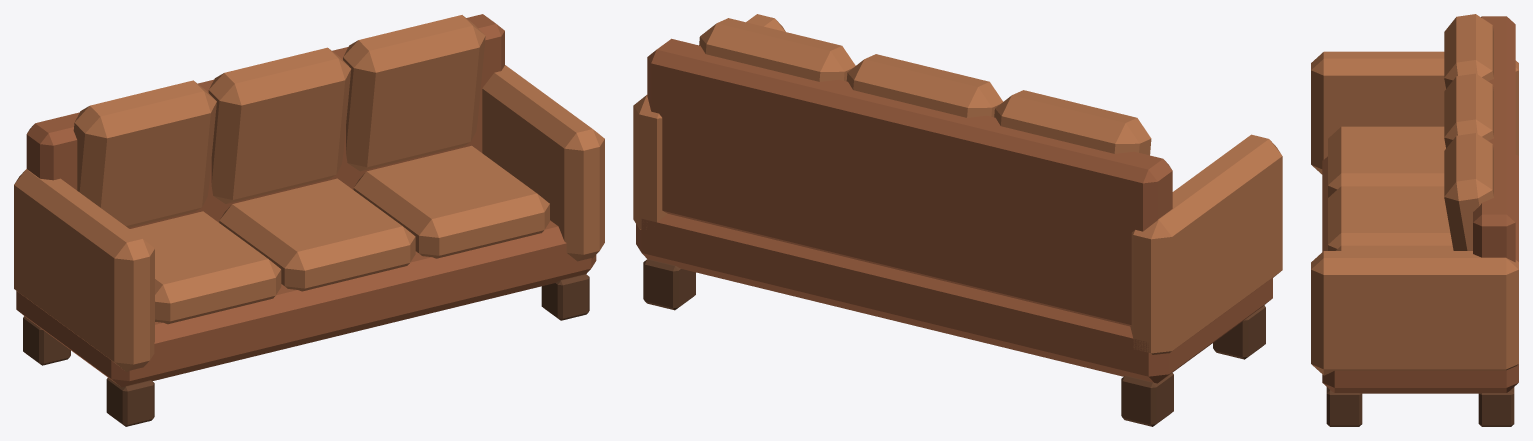
File: Sofa.fbx
3 views of the same model, side by side, from view 1: azimuth 30°, elevation 25°; view 2: azimuth 150°, elevation 25°; view 3: azimuth 270°, elevation 25° (orthographic). The views are drawn at different scales.
Visible parts, largest first — view 1: Body; view 2: Body; view 3: Body.
Part boxes in pixels (x1,y1,x2,y2): Body: [14, 14, 604, 426]; Body: [633, 14, 1282, 426]; Body: [1311, 14, 1518, 426].
Size of the model in its own units: 2.3 by 1.13 by 0.93.
